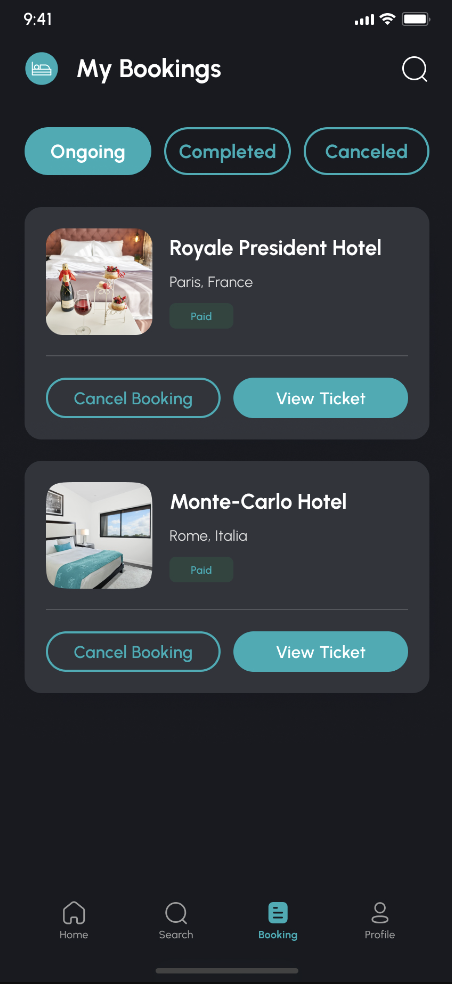AppBar: (1, 28, 452, 92)
